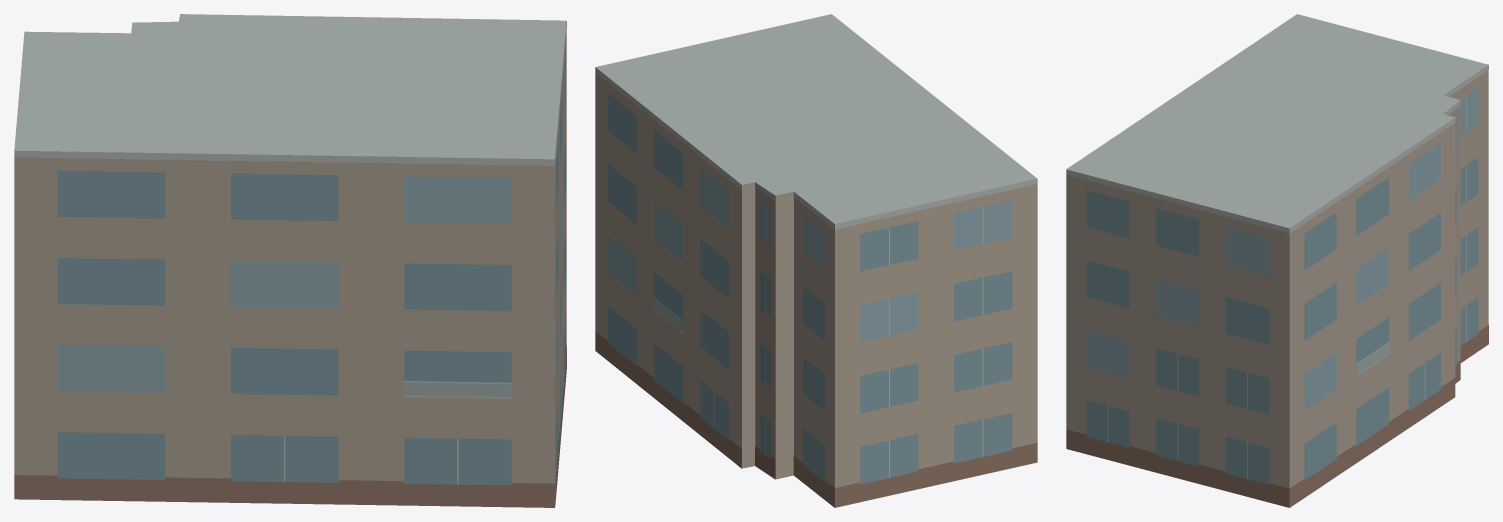
File: survey-upis-32913355.glb
3 renders of one model, left to right at view 1: azimuth 30°, elevation 25°; view 2: azimuth 150°, elevation 25°; view 3: azimuth 270°, elevation 25°, orthographic. The views are drawn at different scales.
Visible parts, largest first — view 1: survey-upis-32913355.tmp; view 2: survey-upis-32913355.tmp; view 3: survey-upis-32913355.tmp.
Boxes of the visible parts, x1,y1,x2,y2 form: survey-upis-32913355.tmp: [14, 14, 566, 507]; survey-upis-32913355.tmp: [595, 14, 1037, 507]; survey-upis-32913355.tmp: [1066, 14, 1488, 507].
Size of the model in its own units: 20.97 by 12.75 by 17.47.
